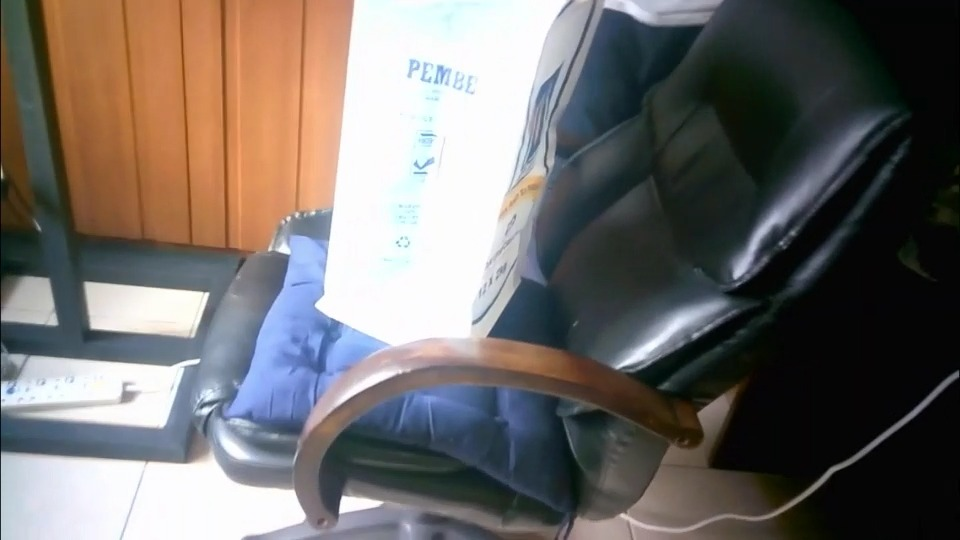wheat_flour_blue_label: (319, 0, 599, 344)
